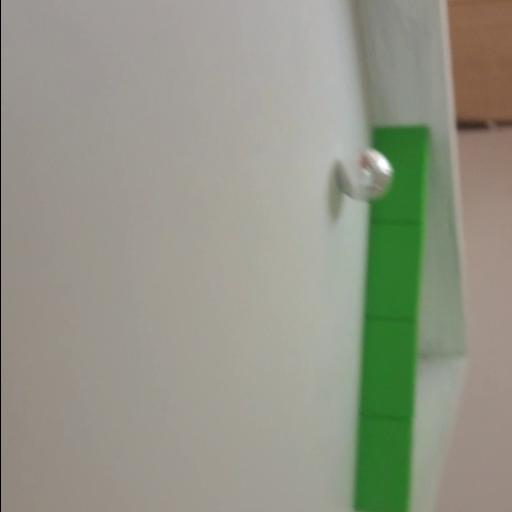alive: (336, 148, 392, 200)
